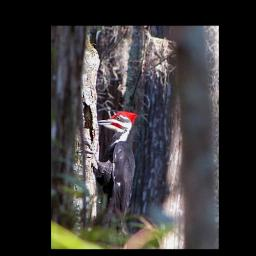Woodpecker: (76, 111, 140, 242)
